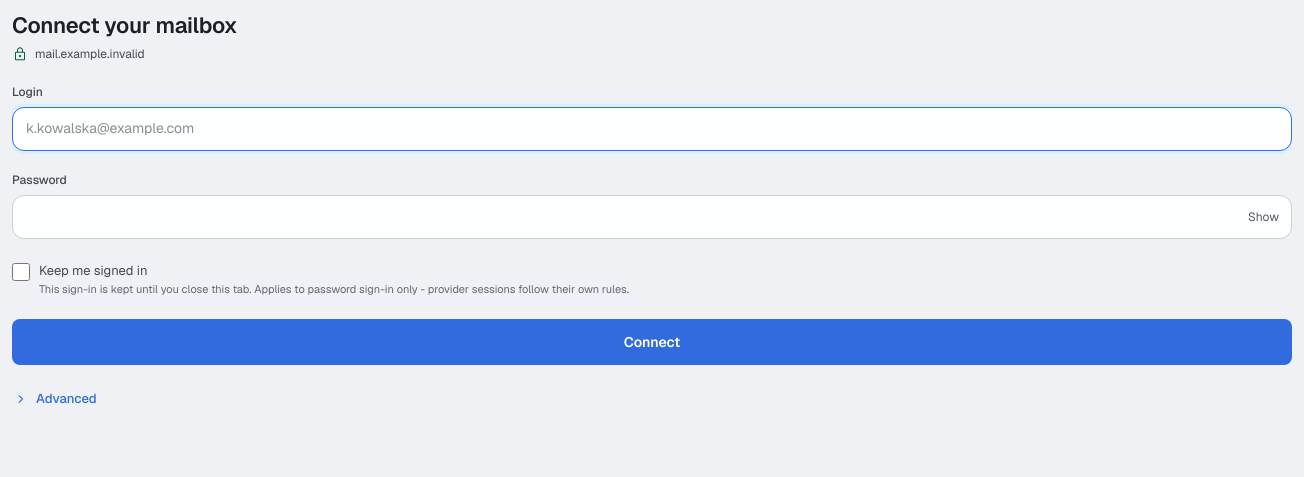
Scenario: SignIn › asks for the half of the credential that is missing, rather than sending the other one
In the field labelled "Login": (652, 128) [26,108,1278,150], type "user"
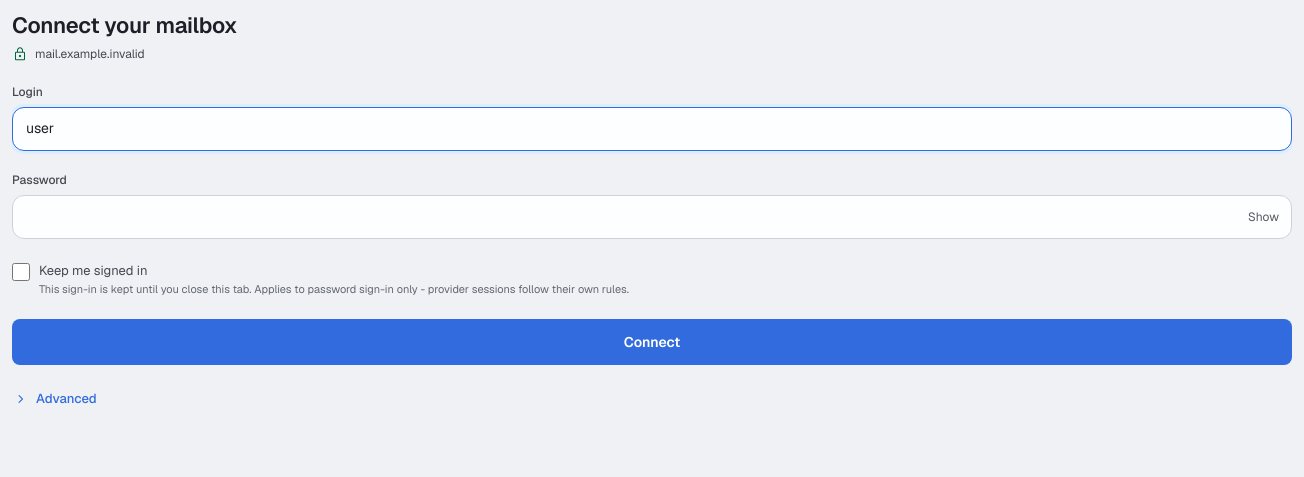
Click the button "Connect": (652, 342) [12,319,1292,365]
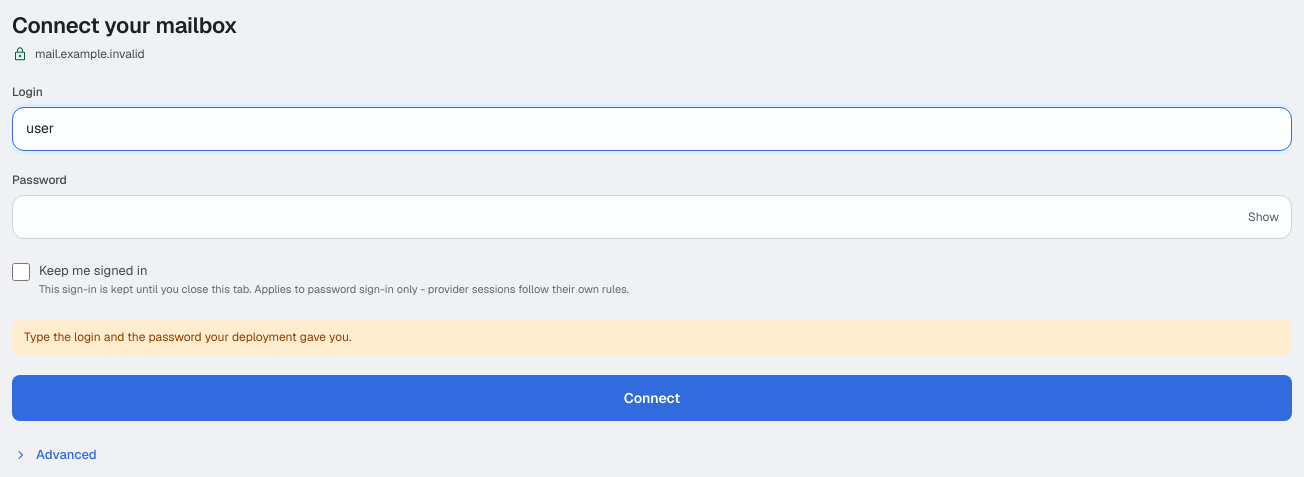
Check: the message reads "Type the login and the password your deployment gave you.", box [24,329,351,345]
